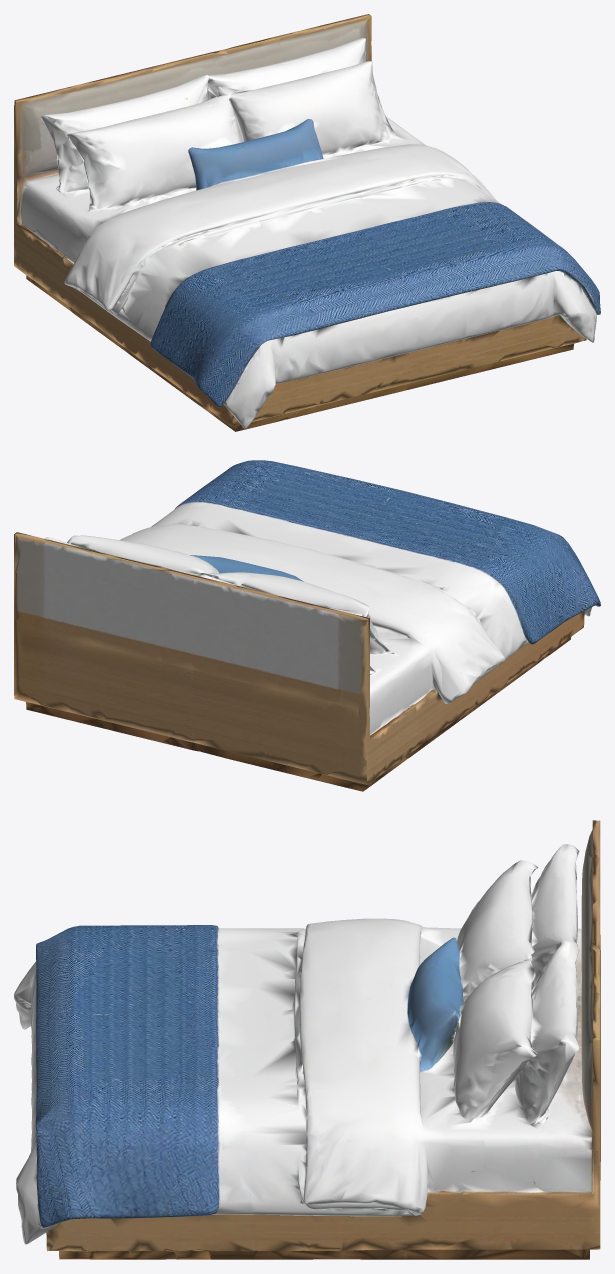
The model's file is King Platform Bed.glb.
3 views of the same model, one above another, from view 1: azimuth 30°, elevation 25°; view 2: azimuth 150°, elevation 25°; view 3: azimuth 270°, elevation 25° (orthographic). The views are drawn at different scales.
Parts seen in each view (by area): view 1: Mesh_0.002; view 2: Mesh_0.002; view 3: Mesh_0.002.
Boxes of the visible parts, x1=… form: Mesh_0.002: x1=14, y1=14, x2=600, y2=431; Mesh_0.002: x1=14, y1=460, x2=600, y2=791; Mesh_0.002: x1=14, y1=820, x2=600, y2=1259.
Bounding box in the file's own units: 1.19 × 0.4999 × 1.18.
Materials: 1 (1 with a texture image).
